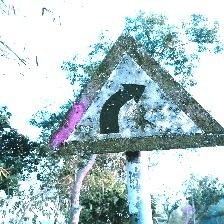Right-turn: (51, 30, 224, 155)
